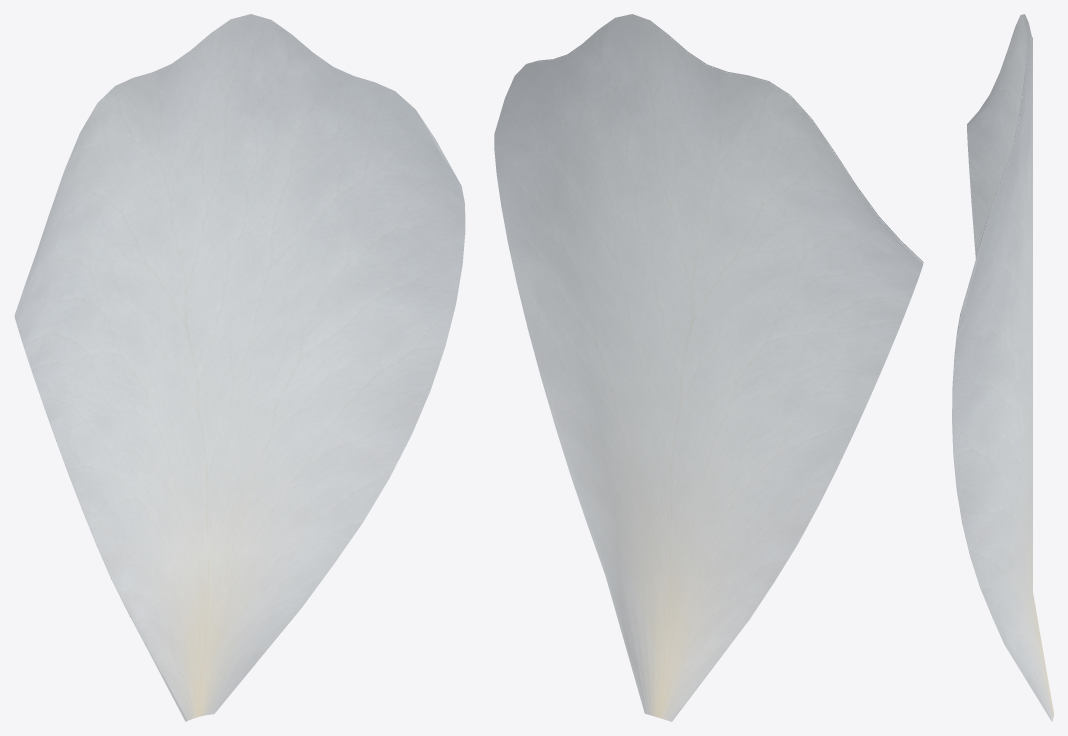
The model's file is middle_03.glb.
The picture shows the model from 3 angles, left to right: view 1: azimuth 30°, elevation 25°; view 2: azimuth 150°, elevation 25°; view 3: azimuth 270°, elevation 25°; orthographic projection. The views are drawn at different scales.
Visible parts, largest first — view 1: middle_03; view 2: middle_03; view 3: middle_03.
Boxes of the visible parts, x1,y1,x2,y2 form: middle_03: [14, 14, 465, 721]; middle_03: [494, 14, 923, 721]; middle_03: [952, 14, 1053, 721].
Bounding box in the file's own units: 0.0589 × 0.0892 × 0.0119.
1 material, 1 textured.
